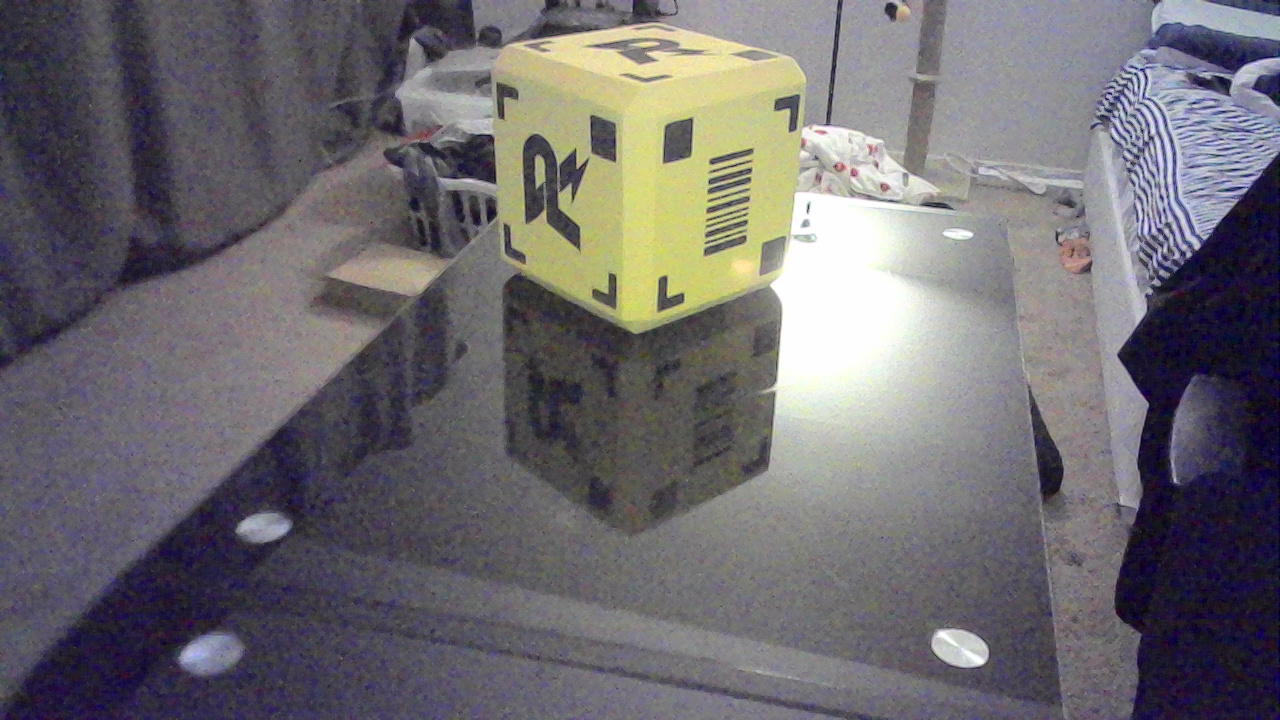Barcode: (706, 151, 765, 265)
R: (515, 136, 601, 260), (583, 40, 707, 78)
